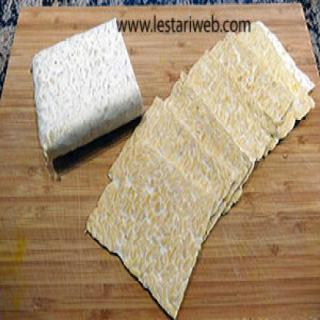Tempe: (87, 19, 319, 320), (28, 17, 145, 160)
